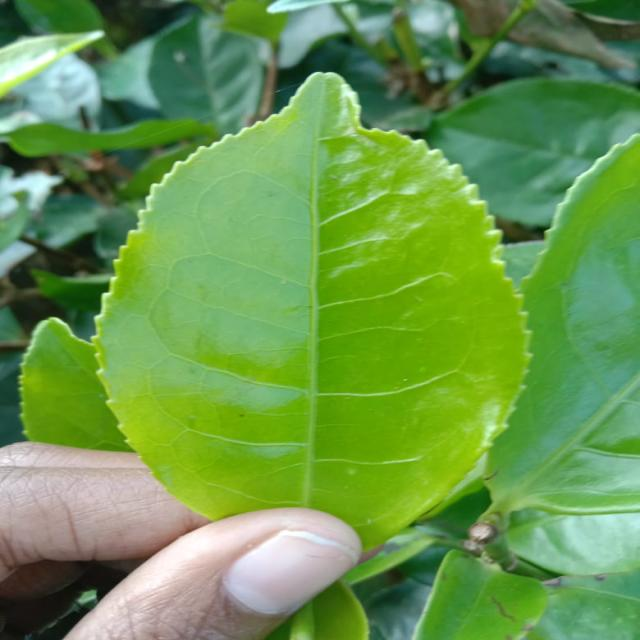Category B(2-4 days): (84, 46, 551, 570)
